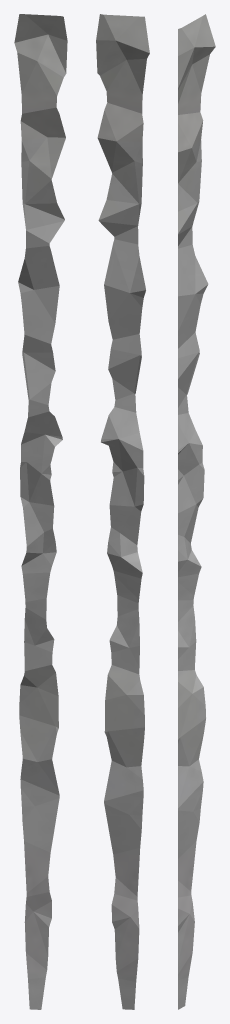
3 views of the same model, side by side, from view 1: azimuth 30°, elevation 25°; view 2: azimuth 210°, elevation 25°; view 3: azimuth 270°, elevation 25° (orthographic).
Size of the model in its own units: 0.0306 by 0.8374 by 0.0288.
1 material, 1 textured.
